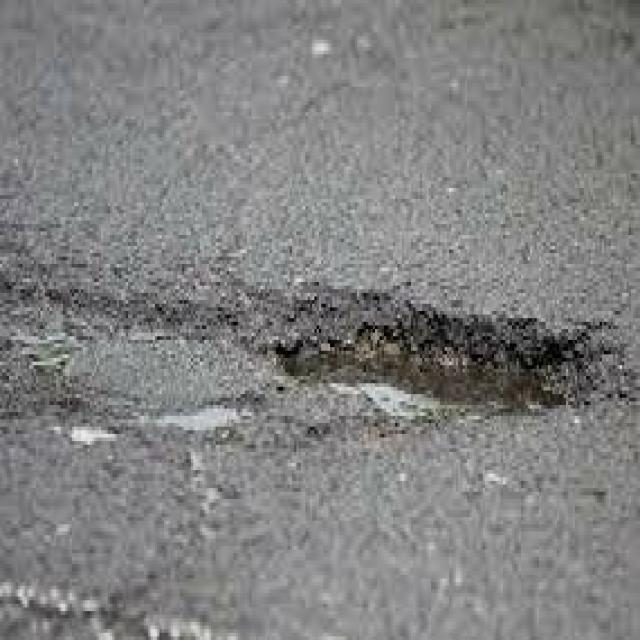Pothole: (193, 250, 640, 517)
